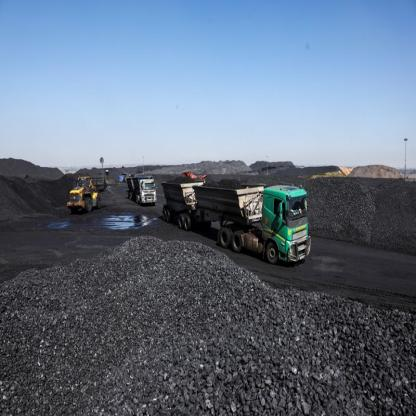bull_dozer/loader/grader: (69, 168, 107, 215)
dump_truck: (156, 163, 315, 262), (124, 168, 160, 208)
